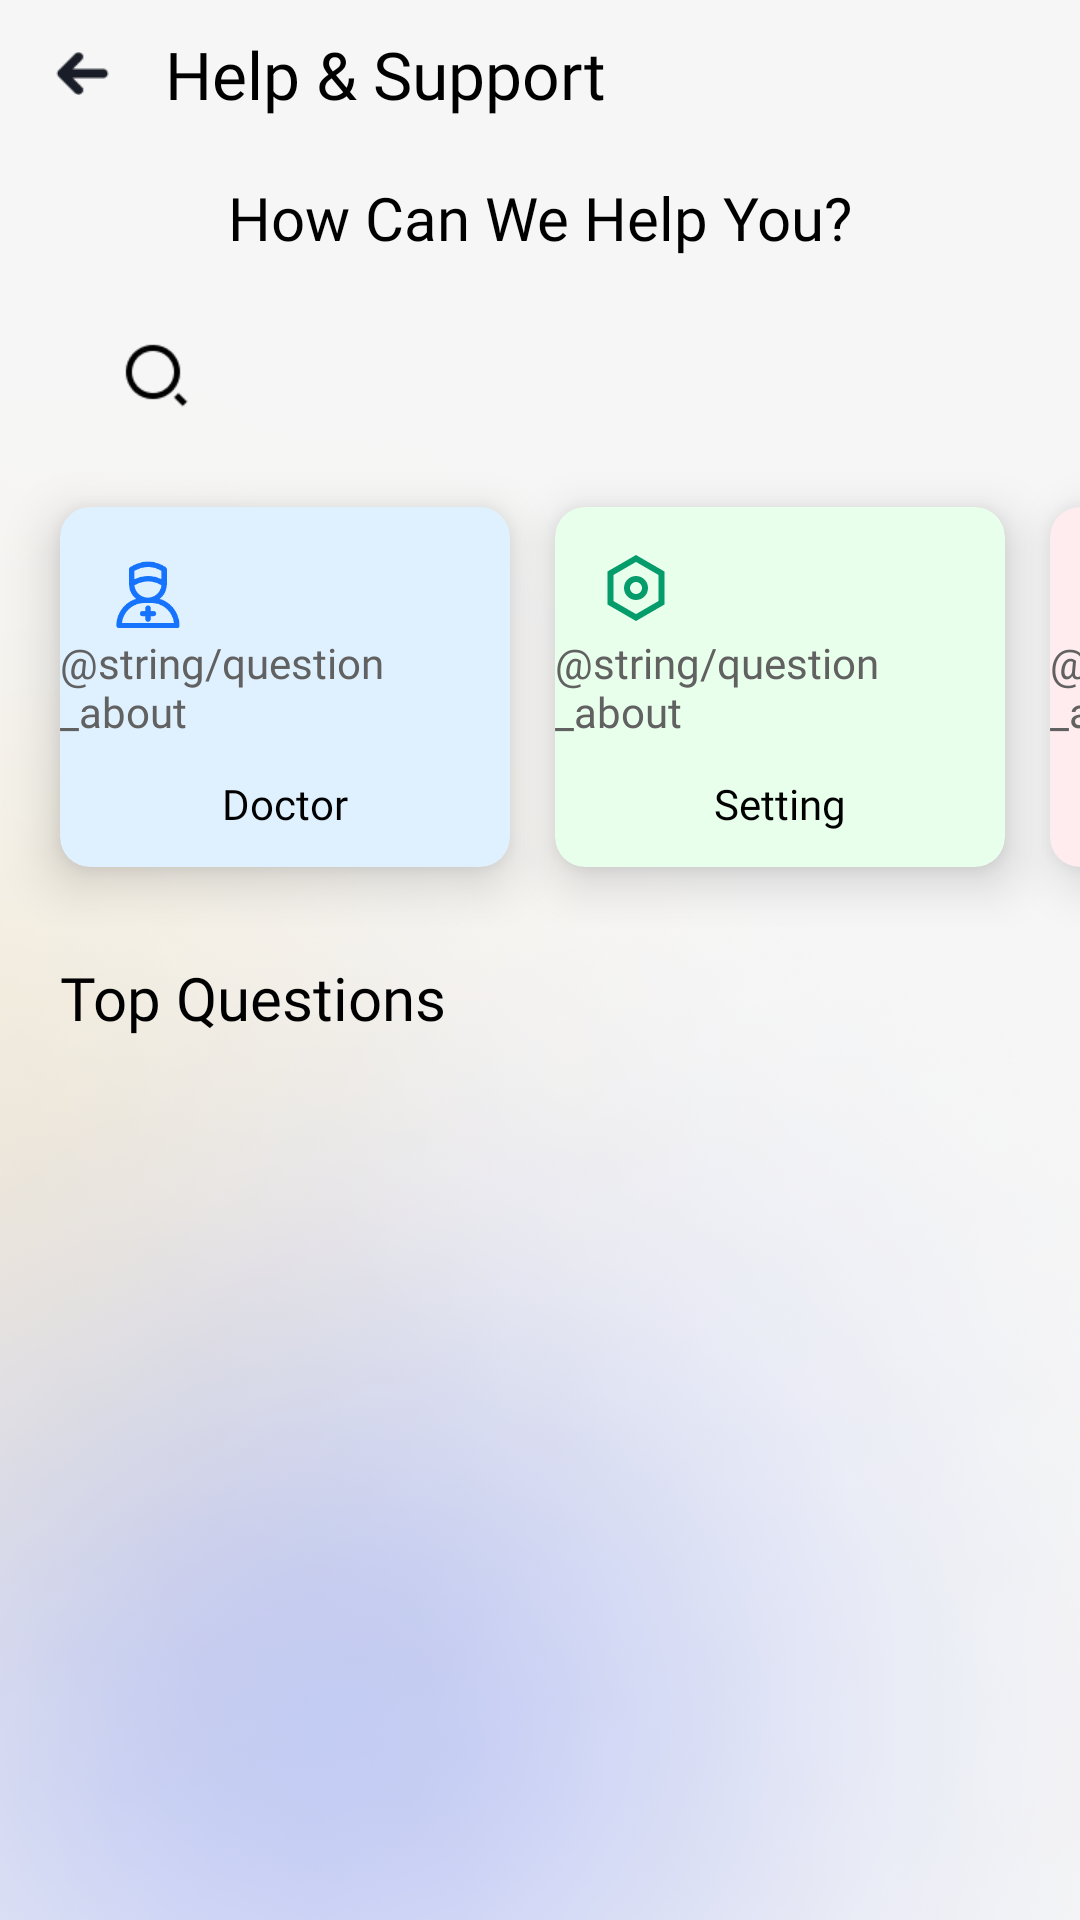

Point at icon controls on the screen. Image size 1080 x 1920, points as [x,y].
setting help: [636,588]
